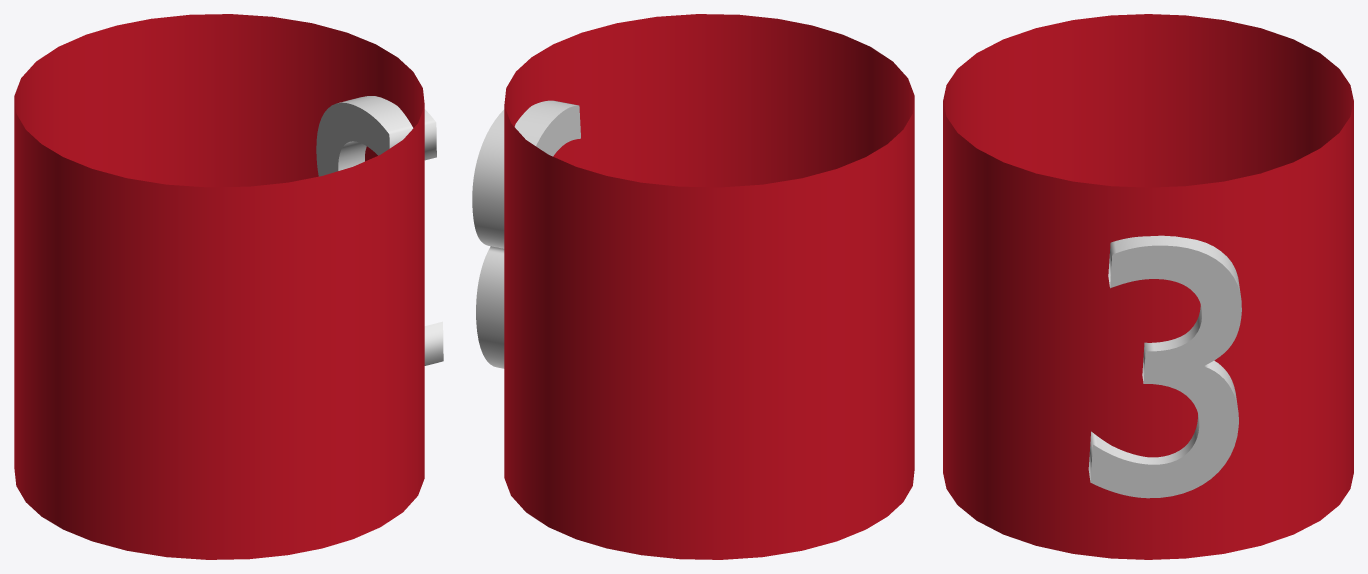
File: redcylinder.glb
3 views of the same model, side by side, from view 1: azimuth 30°, elevation 25°; view 2: azimuth 150°, elevation 25°; view 3: azimuth 270°, elevation 25° (orthographic).
Parts seen in each view (by area): view 1: SurfCylinder, Text; view 2: SurfCylinder, Text; view 3: SurfCylinder, Text.
Part boxes in pixels (<box>): SurfCylinder: <box>14,14,424,559</box>; Text: <box>316,96,443,365</box>; SurfCylinder: <box>504,14,914,559</box>; Text: <box>472,100,580,368</box>; SurfCylinder: <box>943,14,1353,559</box>; Text: <box>1088,235,1241,498</box>.
Bounding box in the file's own units: 2.12 × 2 × 2.
